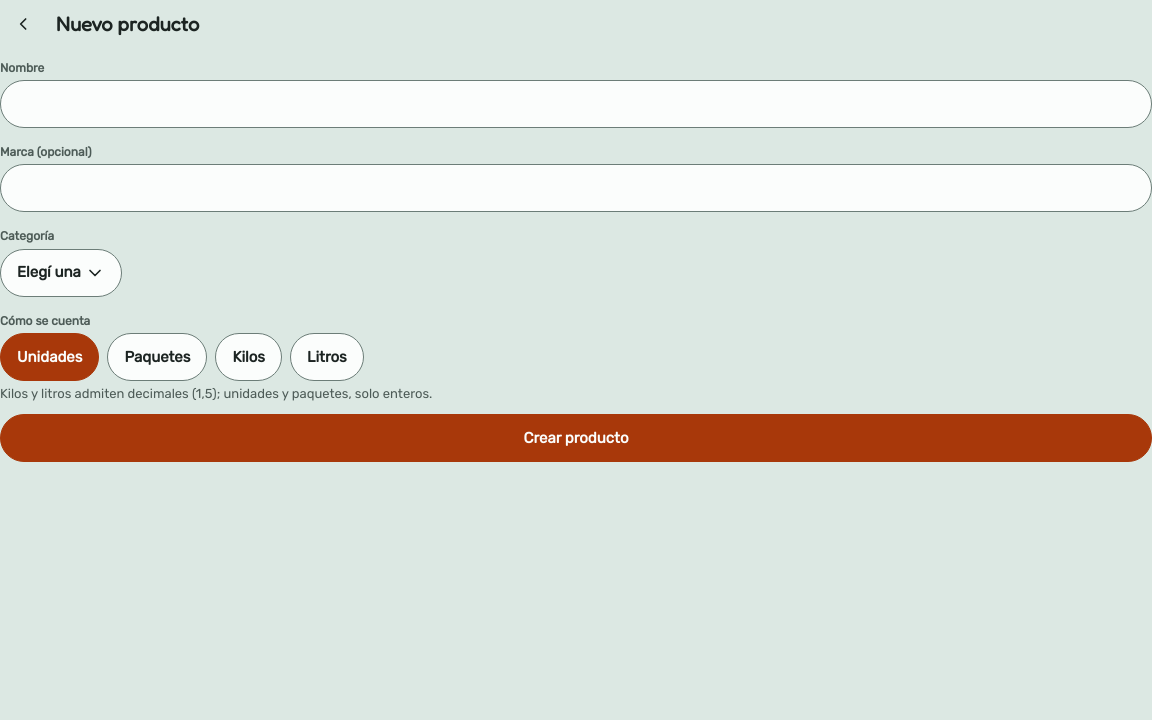
Test: Nuevo producto › un nombre repetido muestra el error de la base
Expected: the button "Crear producto" is shown, [0,414,1151,462]
Type "Yerba" into the field labelled "Nombre" at (576, 104), box [0,80,1151,128]
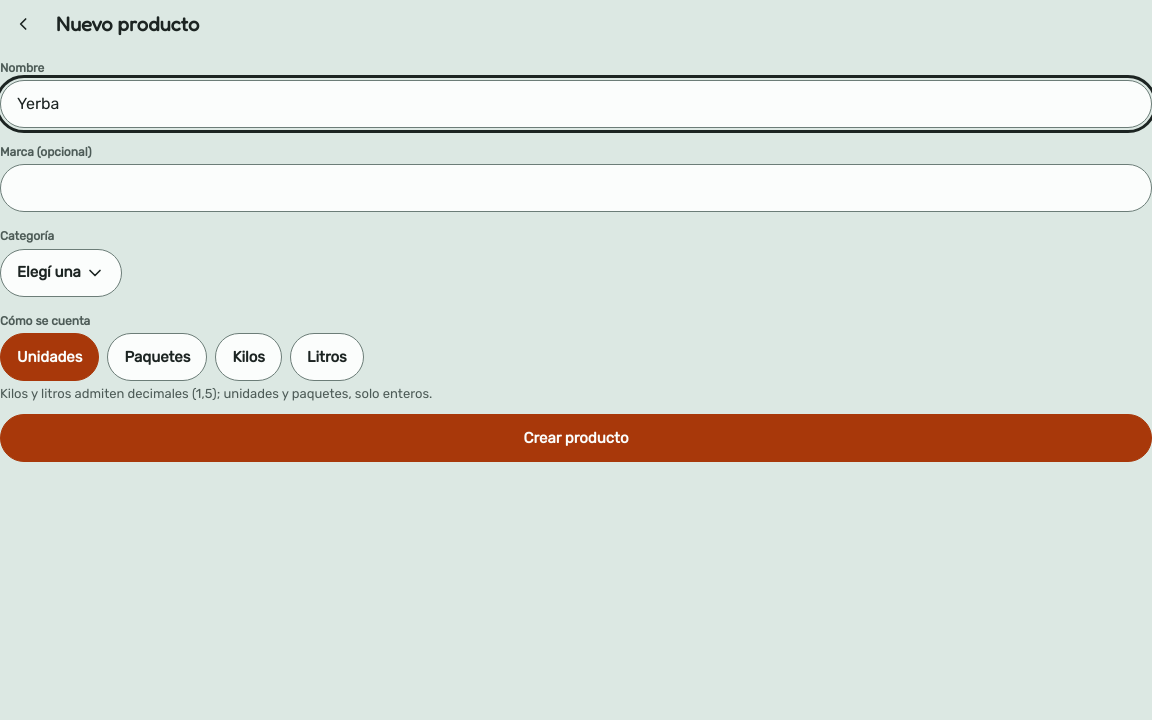
Click the button with aria-label "Categoría: " at (61, 273), box [0,249,122,297]
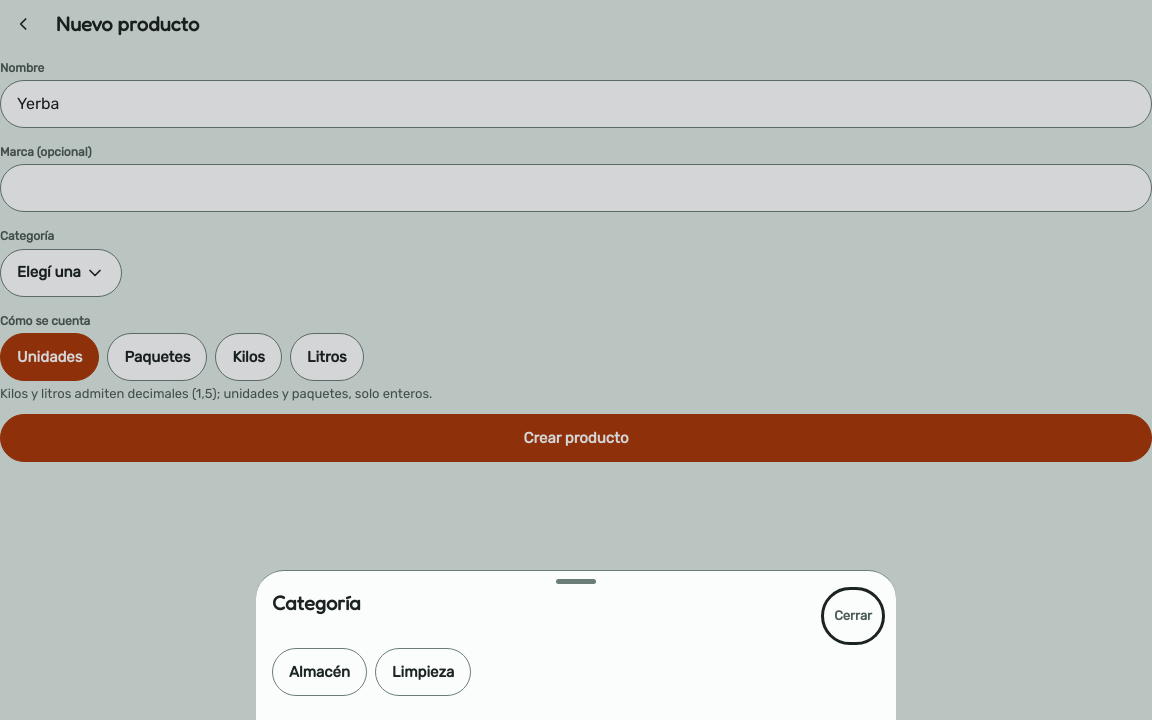
Click the button "Almacén" at (320, 672), box [272,648,367,696]
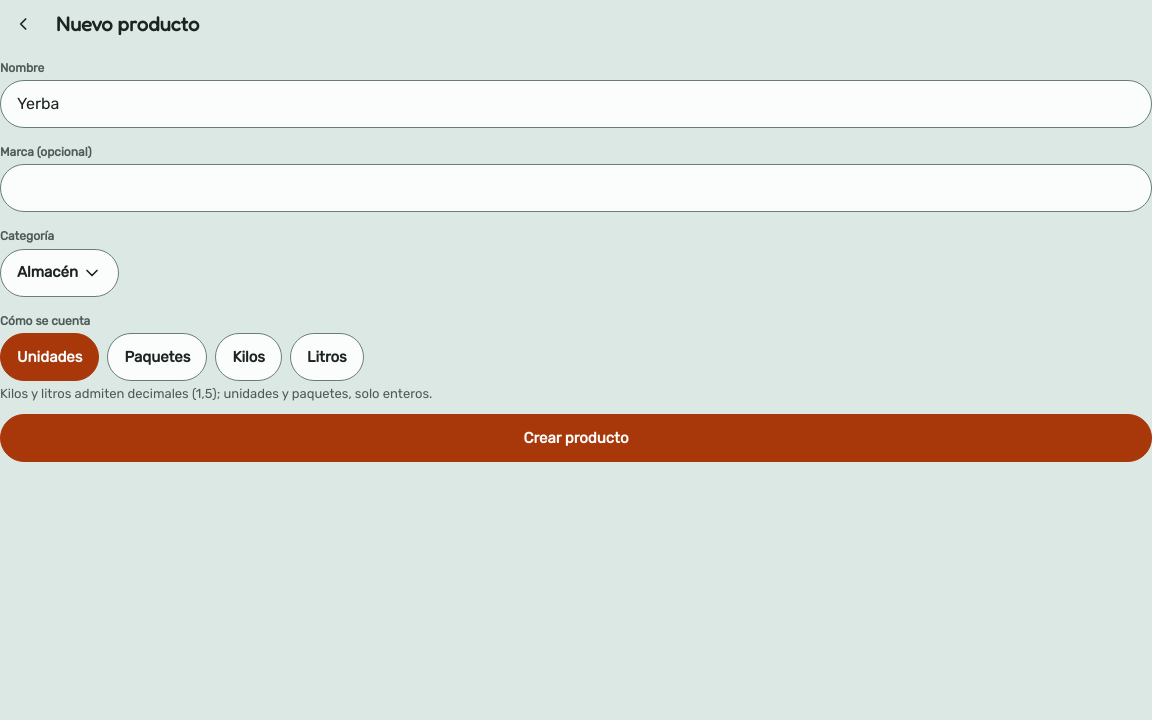
Click the button "Crear producto" at (576, 438), box [0,414,1151,462]
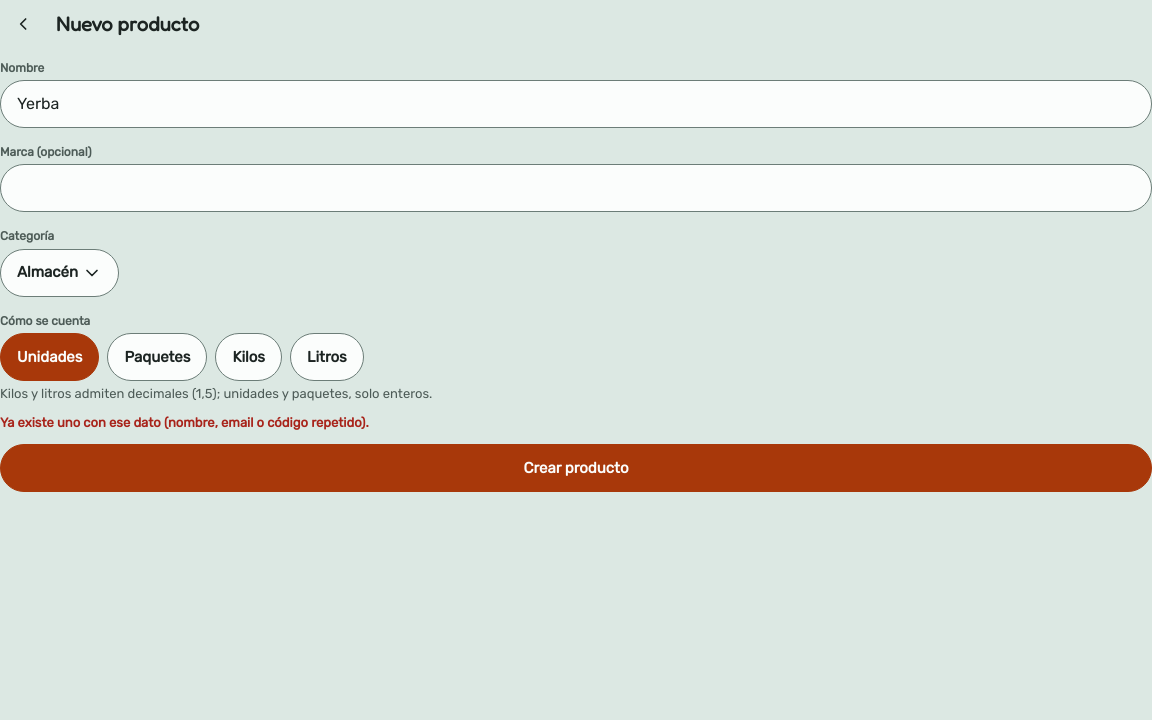
Now the text "Ya existe uno con ese dato (nombre, email o código repetido)." is shown, box [0,415,369,430]
